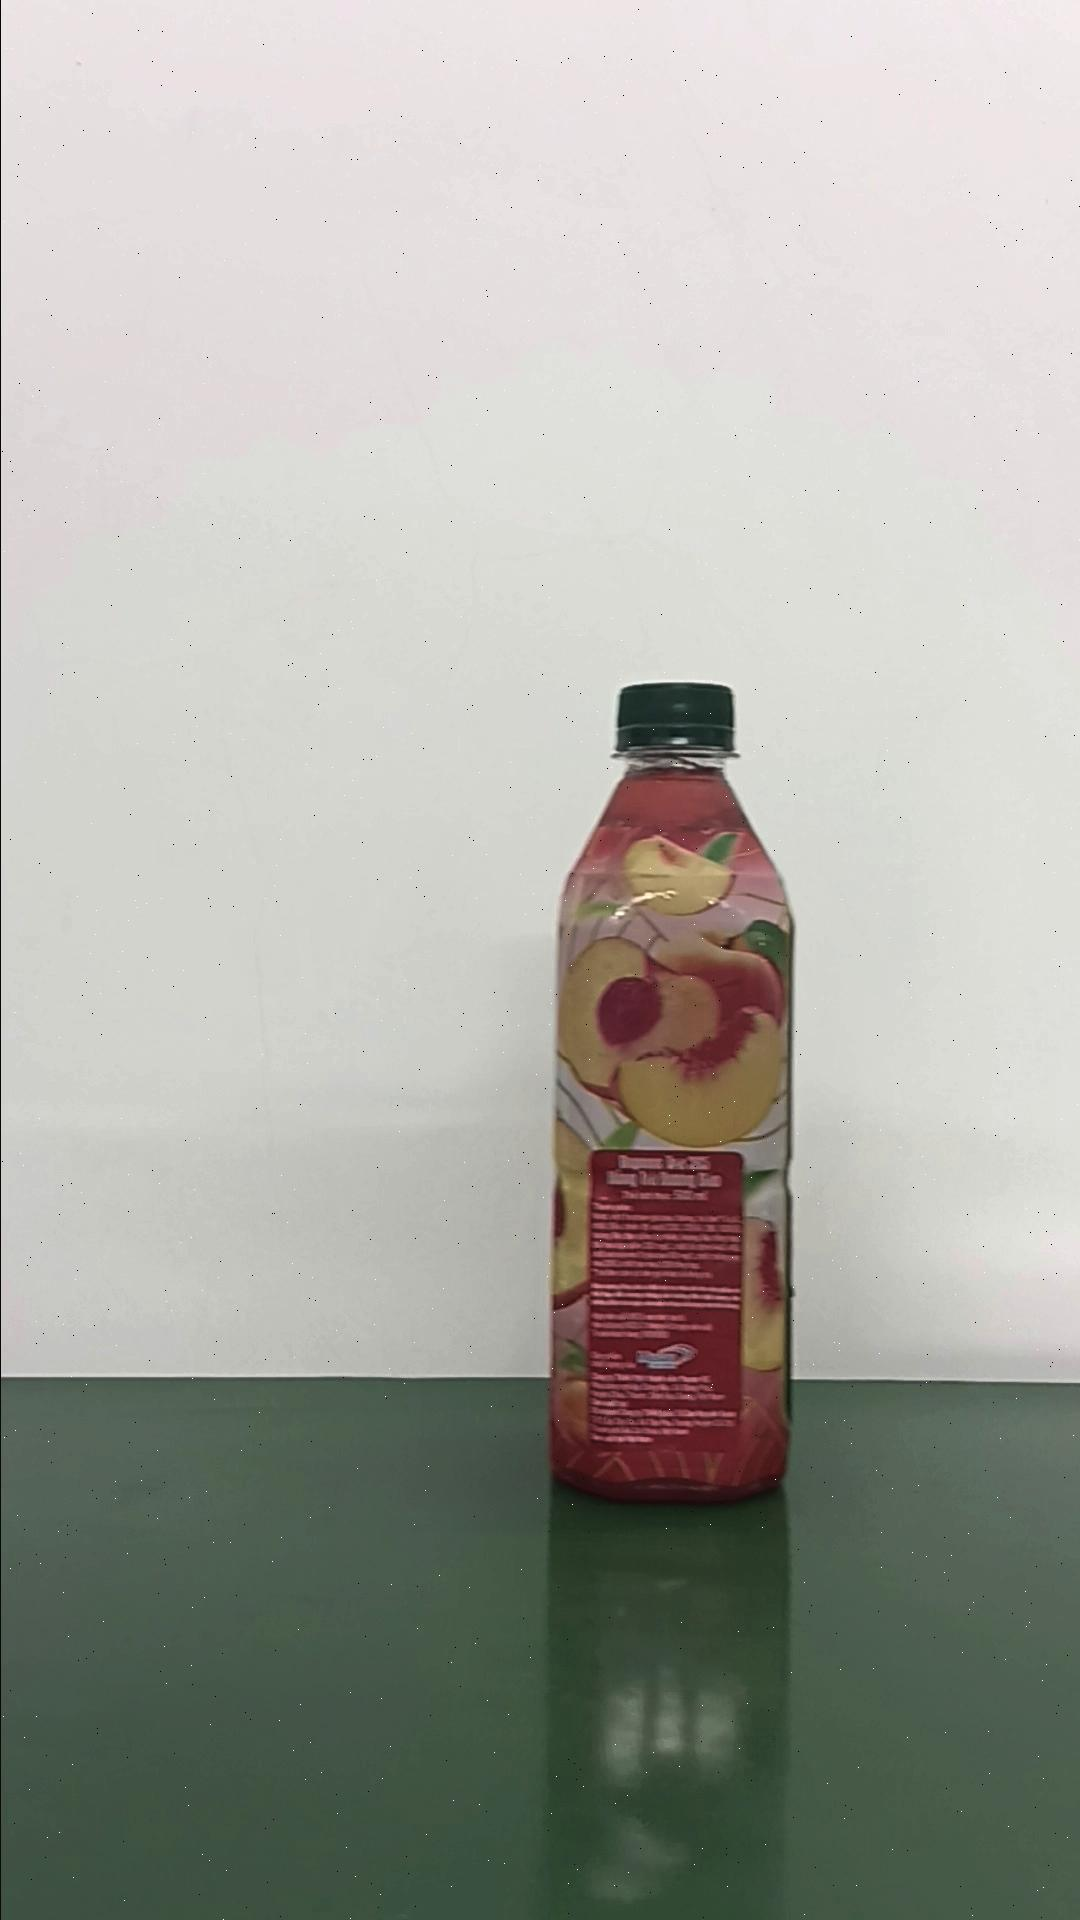khong loi: (546, 679, 796, 1503)
